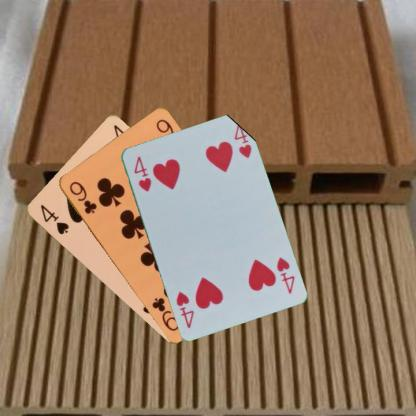4h: (273, 254, 296, 295), (130, 154, 152, 193)
4s: (37, 201, 70, 235)
9c: (66, 178, 98, 216)
